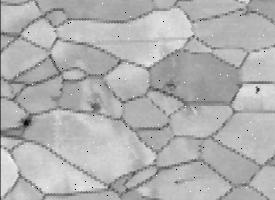good_void: (159, 77, 178, 98), (87, 91, 104, 114), (16, 114, 42, 129), (49, 93, 64, 104), (173, 177, 185, 186), (252, 85, 261, 95)
